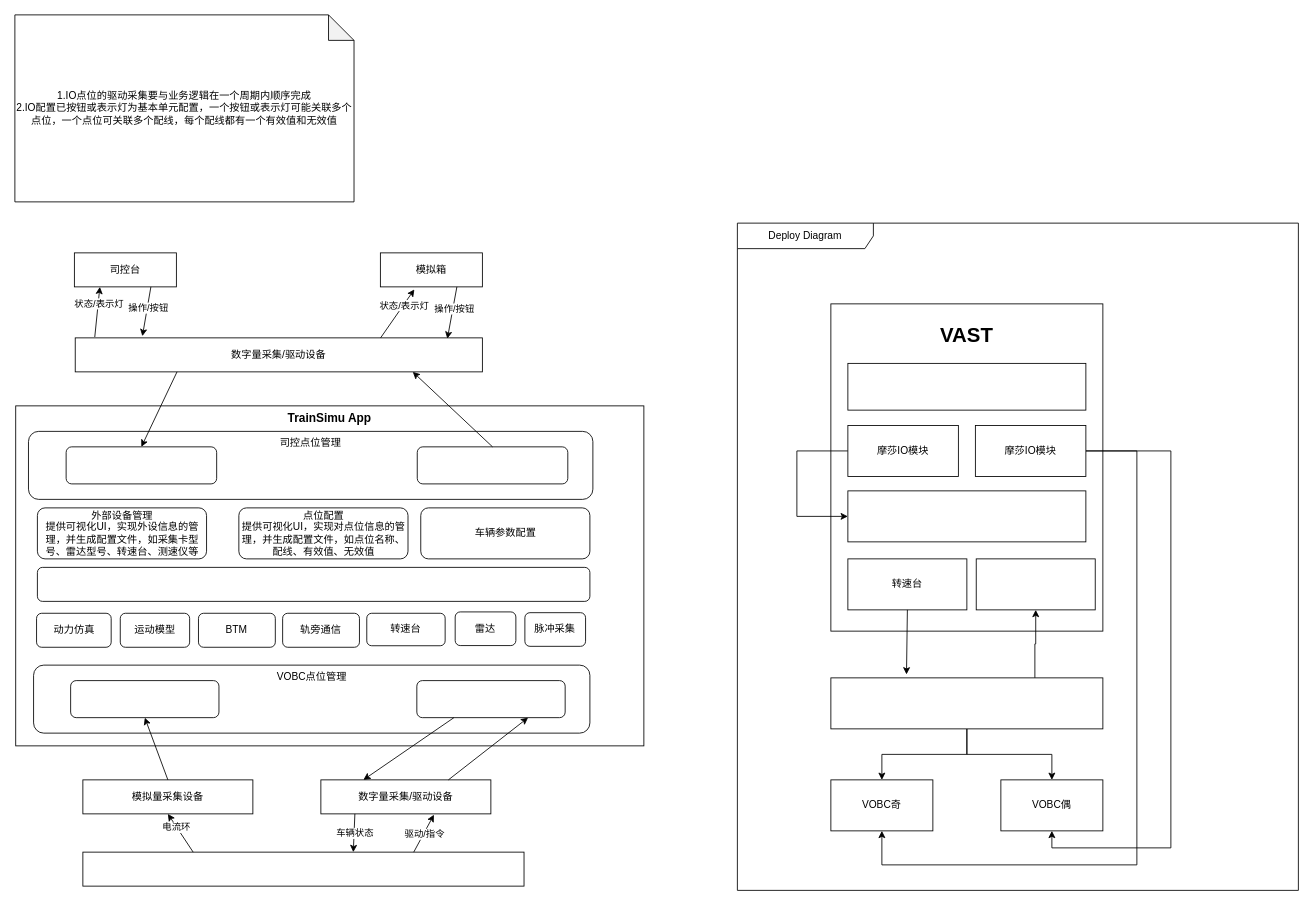
Image size: 1313x905. Some labels were removed from this diagram. Here are the shapes that lost their labels. From the top down, the centre of each, then its label:
At [966,386]: "工控机 BTM（奇/偶）、雷达 （奇/偶）、脉冲采集、转速台".
At [141,465]: "车辆输入/外设输出 点位管理".
At [492,465]: "车辆输出/外设输入 点位管理".
At [966,516]: "物理表示灯/按钮".
At [313,584]: "驱动采集器 提供抽象接口，实现多种不同设备SDK的驱采逻辑".
At [1035,584]: "脉冲采集卡".
At [144,699]: "车辆输入/VOBC输出点位管理".
At [490,699]: "车辆输出/VOBC输入点位管理".
At [966,703]: "OPG".
At [303,868]: "奇端&偶端VOBC机柜".
